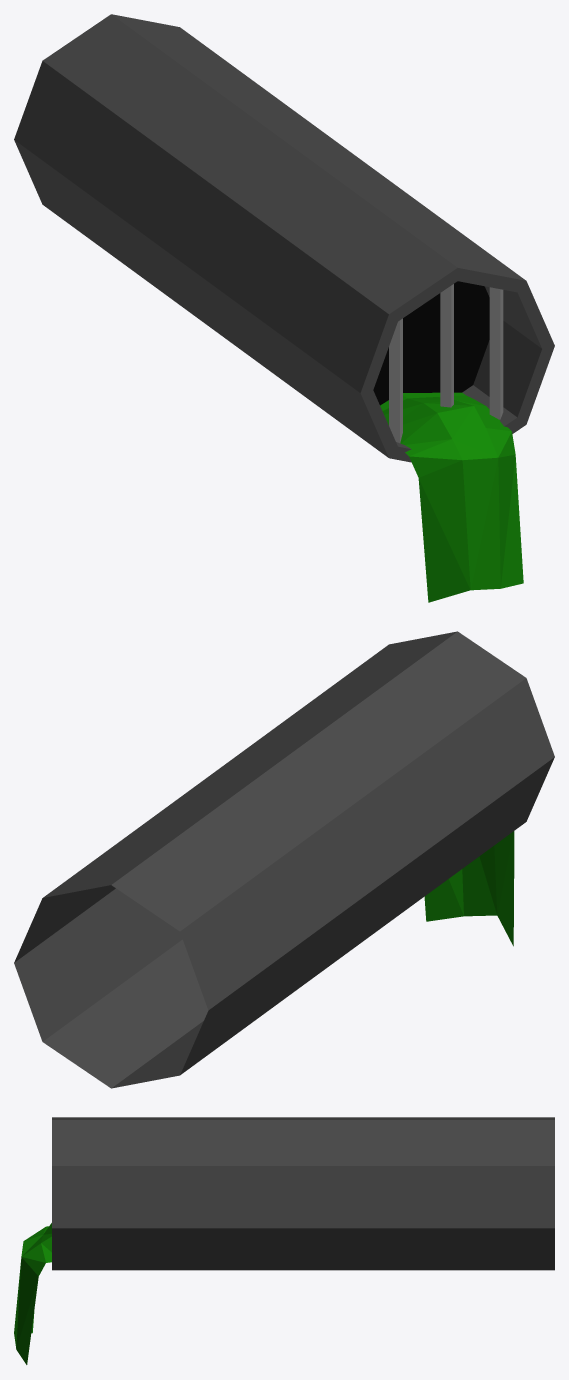
File: Drainpipe.FBX
3 renders of one model, top to bottom at view 1: azimuth 30°, elevation 25°; view 2: azimuth 150°, elevation 25°; view 3: azimuth 270°, elevation 25°, orthographic. The views are drawn at different scales.
Parts seen in each view (by area): view 1: Cylinder001; view 2: Cylinder001; view 3: Cylinder001.
Boxes of the visible parts, left/top/right/bottom form: Cylinder001: left=14, top=14, right=554, bottom=602; Cylinder001: left=14, top=631, right=554, bottom=1088; Cylinder001: left=14, top=1117, right=554, bottom=1364.
Bounding box in the file's own units: 2000 × 3095 × 6640.
